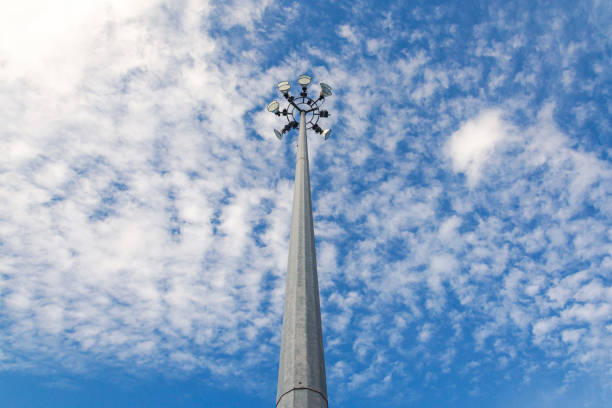light_pole: (270, 128, 334, 408)
